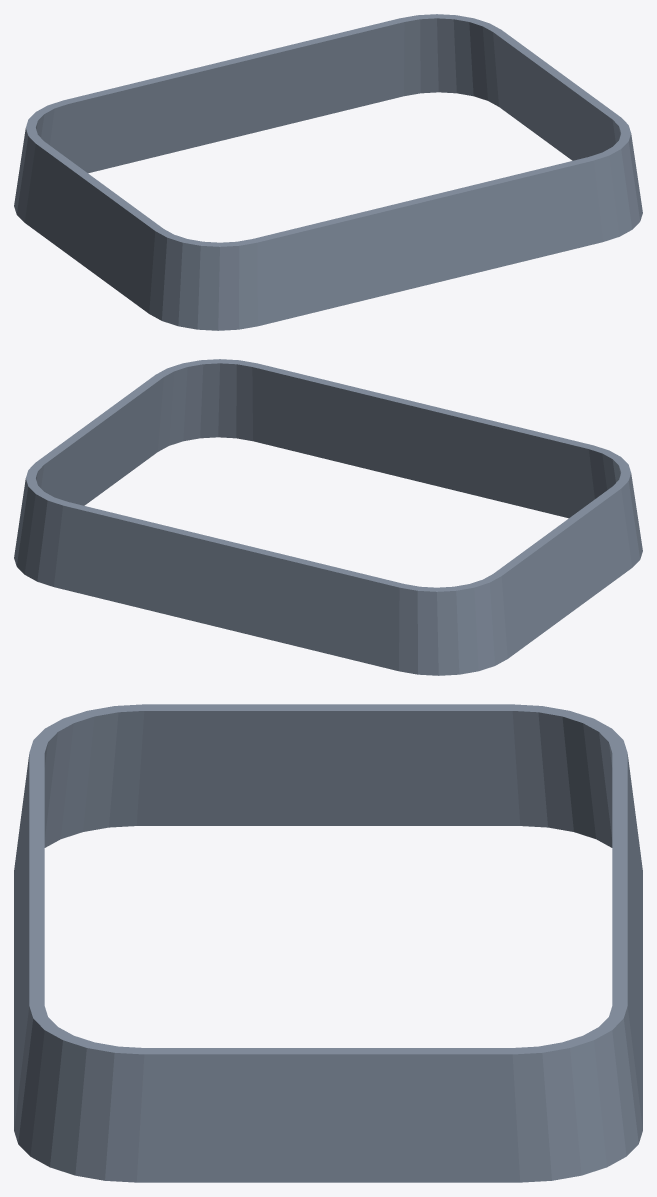
The model's file is SM_Carenage_Moteurs.obj.
3 renders of one model, top to bottom at view 1: azimuth 30°, elevation 25°; view 2: azimuth 150°, elevation 25°; view 3: azimuth 270°, elevation 25°, orthographic. The views are drawn at different scales.
Bounding box in the file's own units: 22400 × 3500 × 16400.
